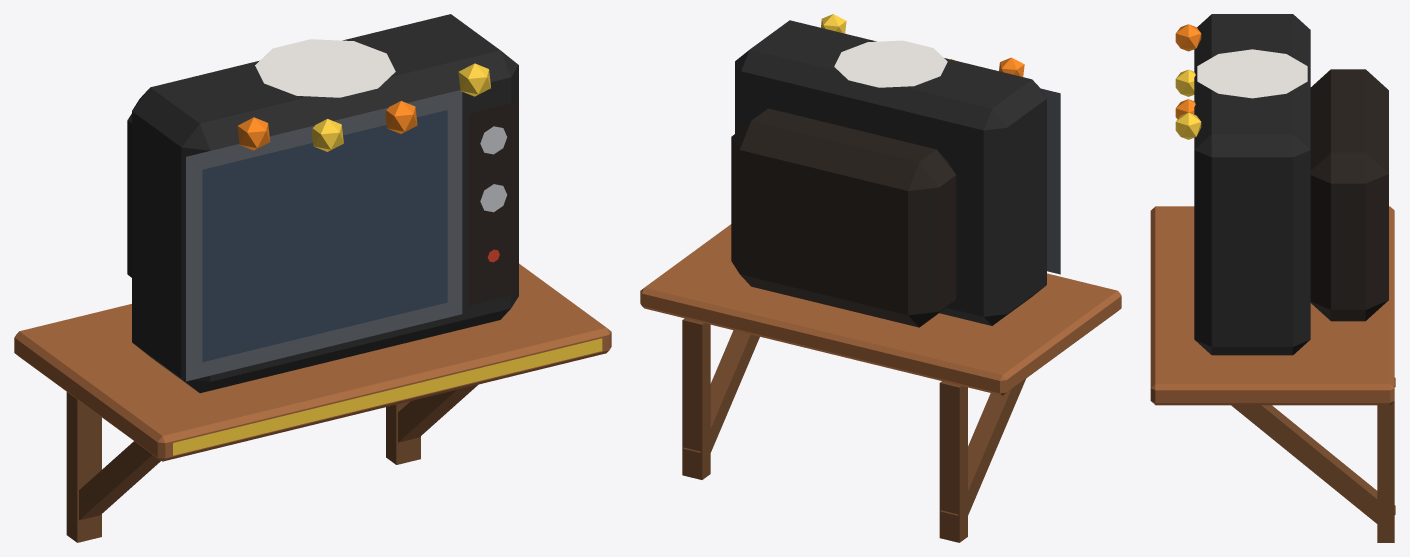
The model's file is tv_set.glb.
3 views of the same model, side by side, from view 1: azimuth 30°, elevation 25°; view 2: azimuth 150°, elevation 25°; view 3: azimuth 270°, elevation 25° (orthographic). The views are drawn at different scales.
Visible parts, largest first — view 1: tv_body, tv_screen; view 2: tv_body; view 3: tv_body.
Part boxes in pixels (x1=…): tv_body: x1=14, y1=14, x2=611, y2=542; tv_screen: x1=202, y1=110, x2=447, y2=362; tv_body: x1=640, y1=14, x2=1121, y2=542; tv_body: x1=1150, y1=14, x2=1395, y2=542.
Size of the model in its own units: 0.74 by 0.771 by 0.4227.
1 material, 1 textured.
